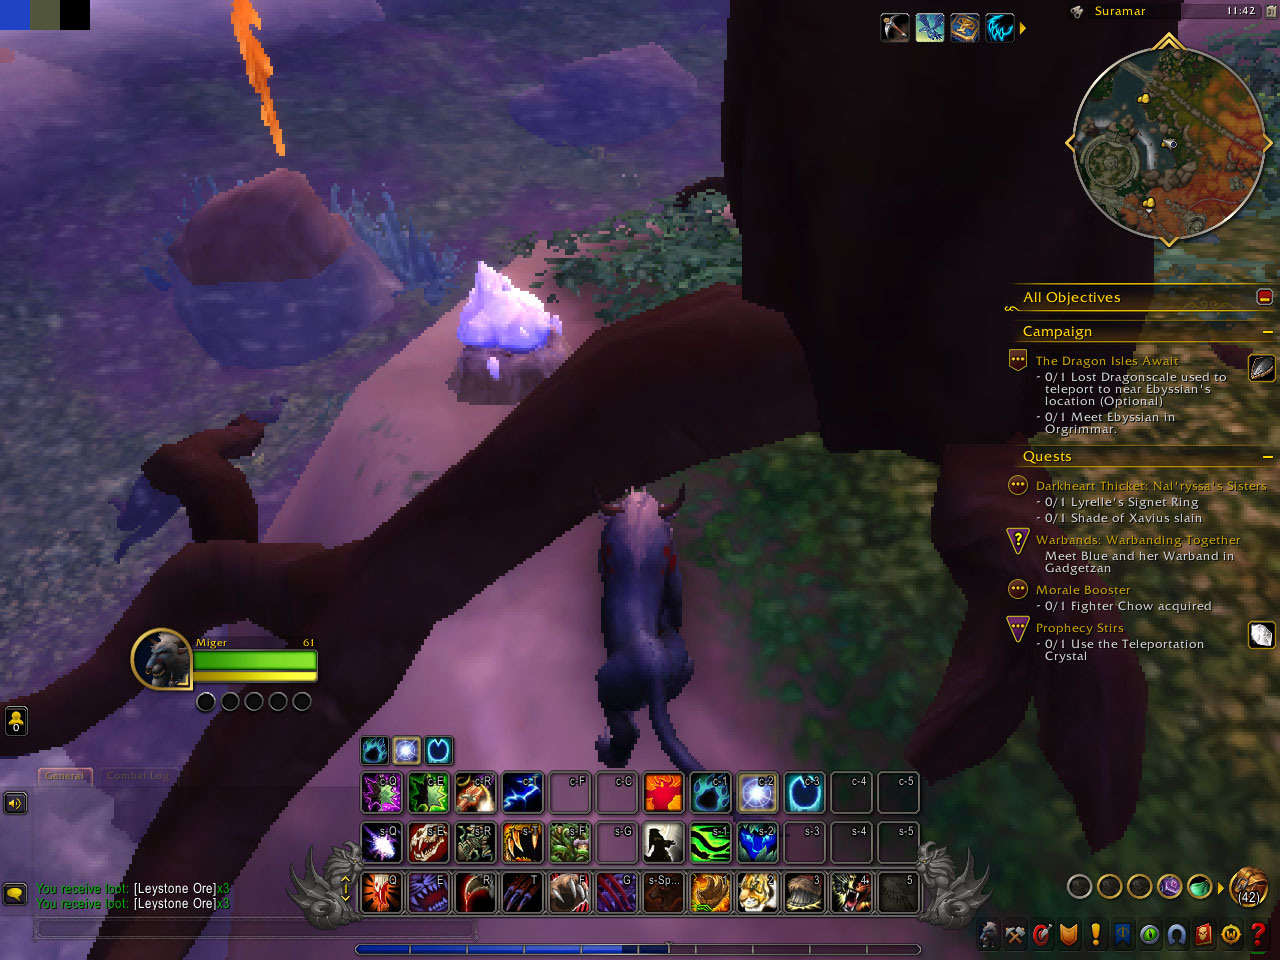ore: (444, 256, 570, 408)
